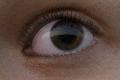eye: (49, 18, 84, 51)
